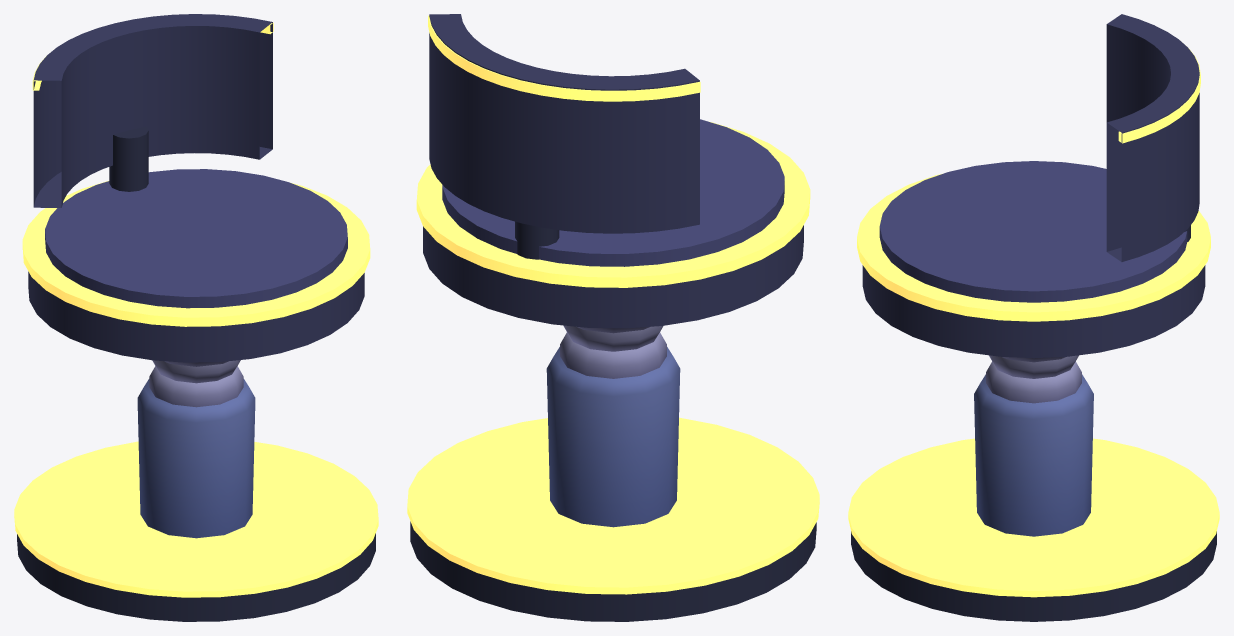
Rendered from fy_chair.glb.
The picture shows the model from 3 angles, left to right: view 1: azimuth 30°, elevation 25°; view 2: azimuth 150°, elevation 25°; view 3: azimuth 270°, elevation 25°; orthographic projection. The views are drawn at different scales.
Visible parts, largest first — view 1: base_rim, seat_cushion, backrest, piston-thin-round, seat, seat_rim, base, back_post, top; view 2: base_rim, backrest, piston-thin-round, seat_cushion, seat, seat_rim, base, back_rim, top, back_post; view 3: base_rim, seat_cushion, backrest, piston-thin-round, seat, seat_rim, base, top, back_rim.
Part boxes in pixels (left/top/right/bottom): base_rim: left=14, top=441, right=378, bottom=597; seat_cushion: left=45, top=169, right=347, bottom=308; backrest: left=33, top=14, right=272, bottom=207; piston-thin-round: left=137, top=366, right=255, bottom=538; seat: left=28, top=271, right=364, bottom=362; seat_rim: left=22, top=180, right=370, bottom=326; base: left=17, top=533, right=375, bottom=621; back_post: left=109, top=126, right=148, bottom=191; top: left=152, top=360, right=240, bottom=383; base_rim: left=407, top=417, right=819, bottom=594; backrest: left=429, top=14, right=699, bottom=233; piston-thin-round: left=546, top=332, right=680, bottom=527; seat_cushion: left=442, top=119, right=784, bottom=266; seat: left=423, top=225, right=803, bottom=328; seat_rim: left=416, top=121, right=810, bottom=287; base: left=410, top=521, right=816, bottom=621; back_rim: left=428, top=15, right=700, bottom=101; top: left=563, top=325, right=663, bottom=351; back_post: left=515, top=221, right=559, bottom=259; base_rim: left=848, top=438, right=1219, bottom=597; seat_cushion: left=879, top=161, right=1187, bottom=302; backrest: left=1106, top=14, right=1199, bottom=261; piston-thin-round: left=974, top=361, right=1093, bottom=536; seat: left=862, top=265, right=1205, bottom=358; seat_rim: left=857, top=173, right=1210, bottom=321; base: left=851, top=531, right=1216, bottom=621; top: left=989, top=355, right=1078, bottom=378; back_rim: left=1118, top=48, right=1200, bottom=143.
Size of the model in its own units: 0.65 by 0.91 by 0.65.
9 materials, 1 textured.
